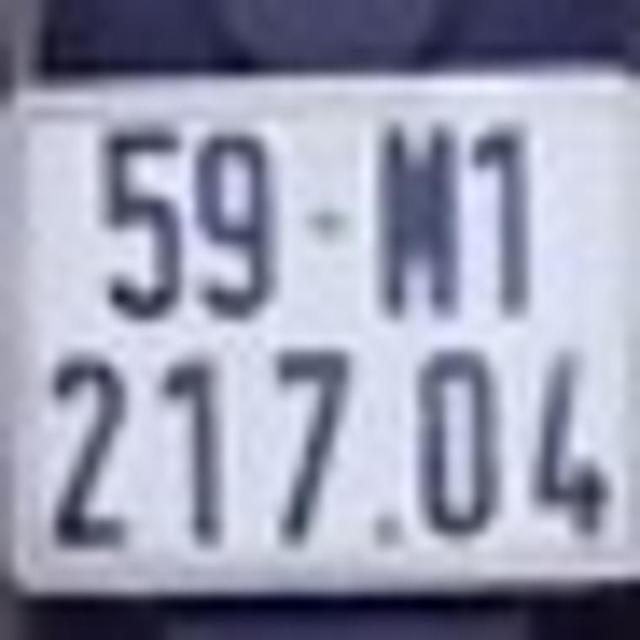0: (417, 343, 499, 537)
1: (472, 117, 538, 320), (160, 353, 228, 549)
2: (48, 350, 132, 552)
4: (532, 344, 612, 538)
5: (97, 122, 187, 322)
7: (268, 338, 353, 549)
9: (193, 125, 275, 321)
M: (374, 114, 464, 325)
